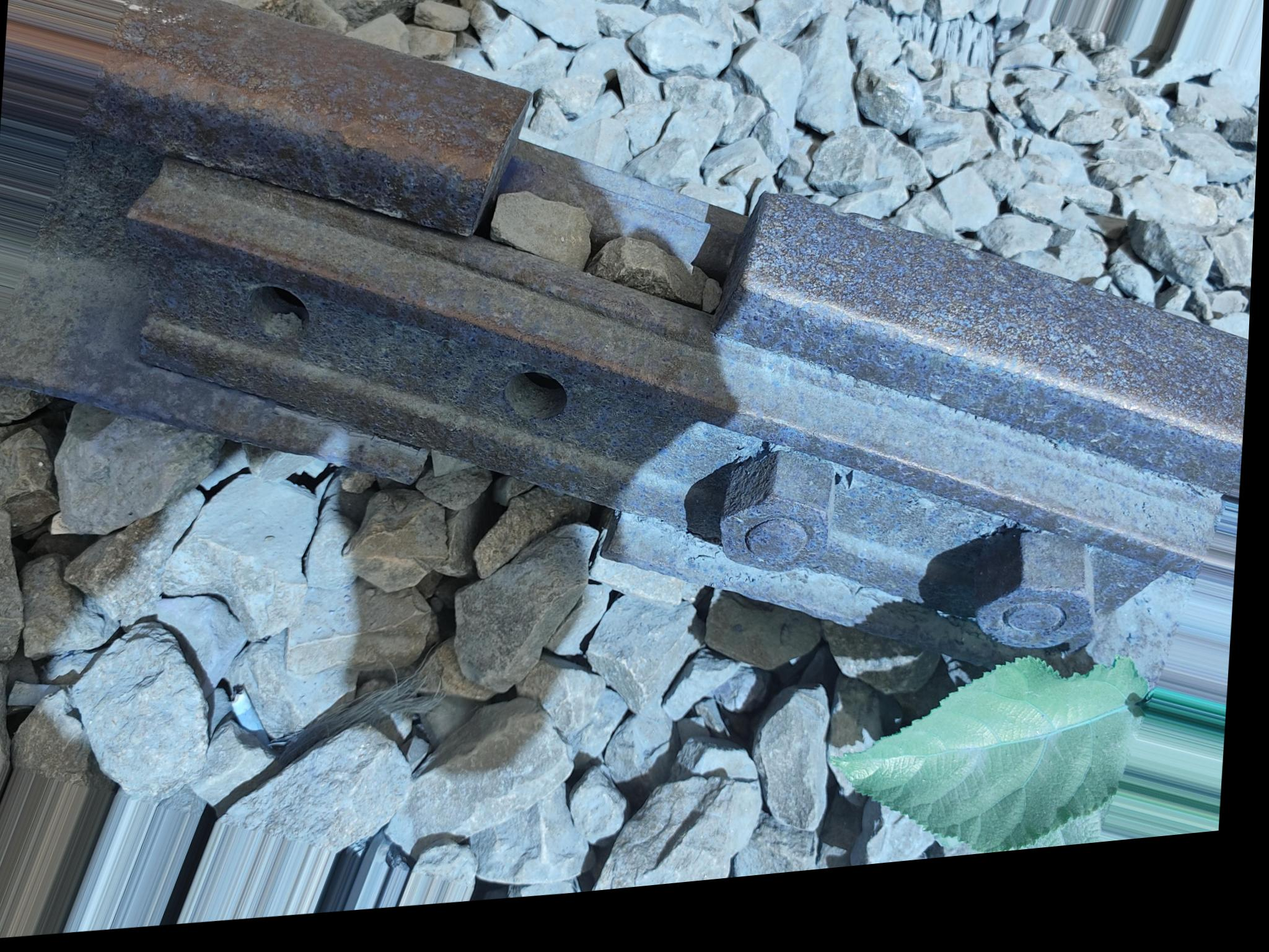person: (398, 61, 854, 396), (374, 414, 678, 600)
